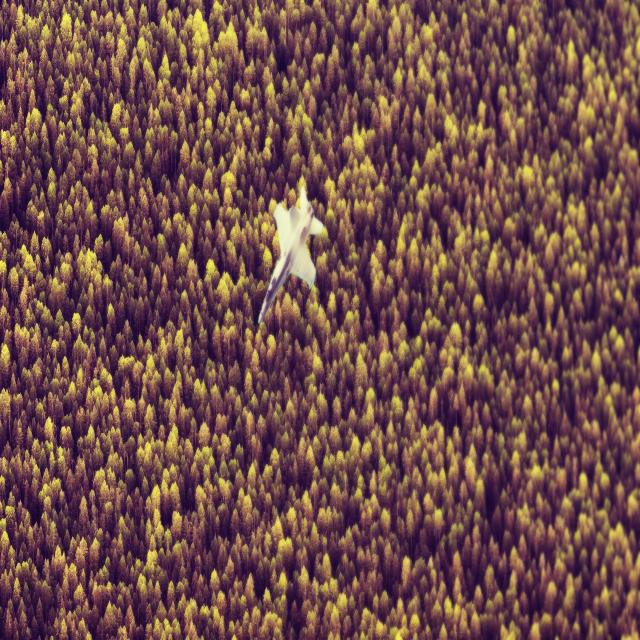airplane: (257, 185, 324, 326)
